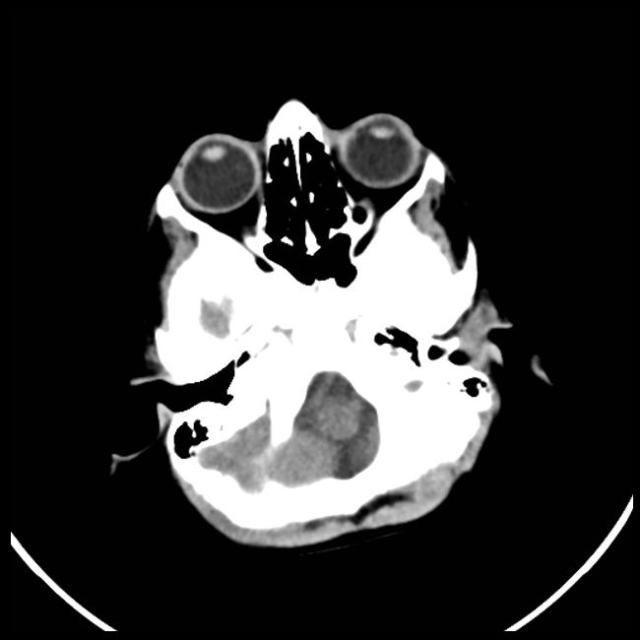lesion: (109, 95, 532, 552)
